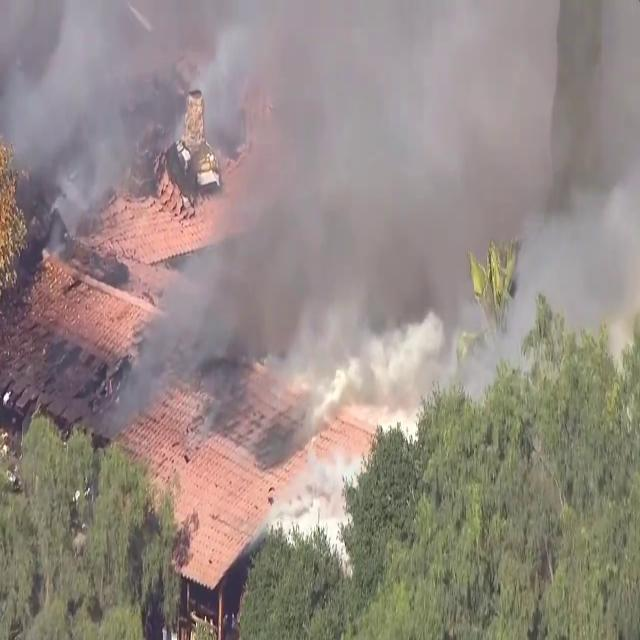Smoke: (32, 0, 640, 457)
